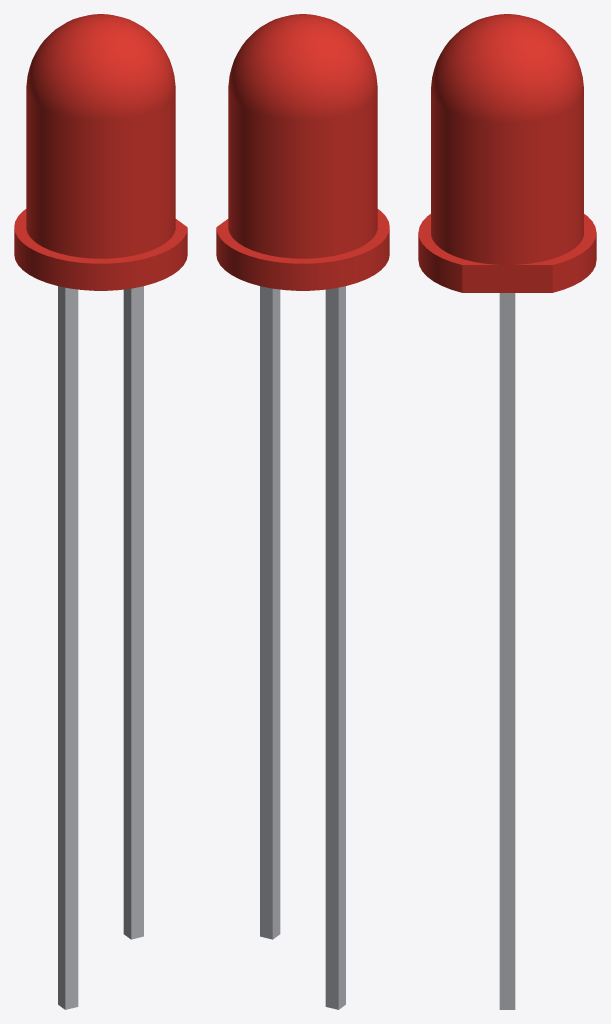
The model's file is led-5mm.glb.
3 renders of one model, left to right at view 1: azimuth 30°, elevation 25°; view 2: azimuth 150°, elevation 25°; view 3: azimuth 270°, elevation 25°, orthographic. The views are drawn at different scales.
Parts seen in each view (by area): view 1: body, lead-1, lead-2; view 2: body, lead-1, lead-2; view 3: body, lead-2.
Boxes of the visible parts, bbox=[...] form: body: bbox=[14, 14, 187, 290]; lead-1: bbox=[58, 286, 78, 1009]; lead-2: bbox=[123, 286, 143, 939]; body: bbox=[216, 14, 389, 290]; lead-1: bbox=[325, 286, 345, 1009]; lead-2: bbox=[260, 286, 280, 939]; body: bbox=[418, 14, 596, 292]; lead-2: bbox=[499, 293, 515, 987].
Size of the model in its own units: 0.00539 by 0.036 by 0.0058.
